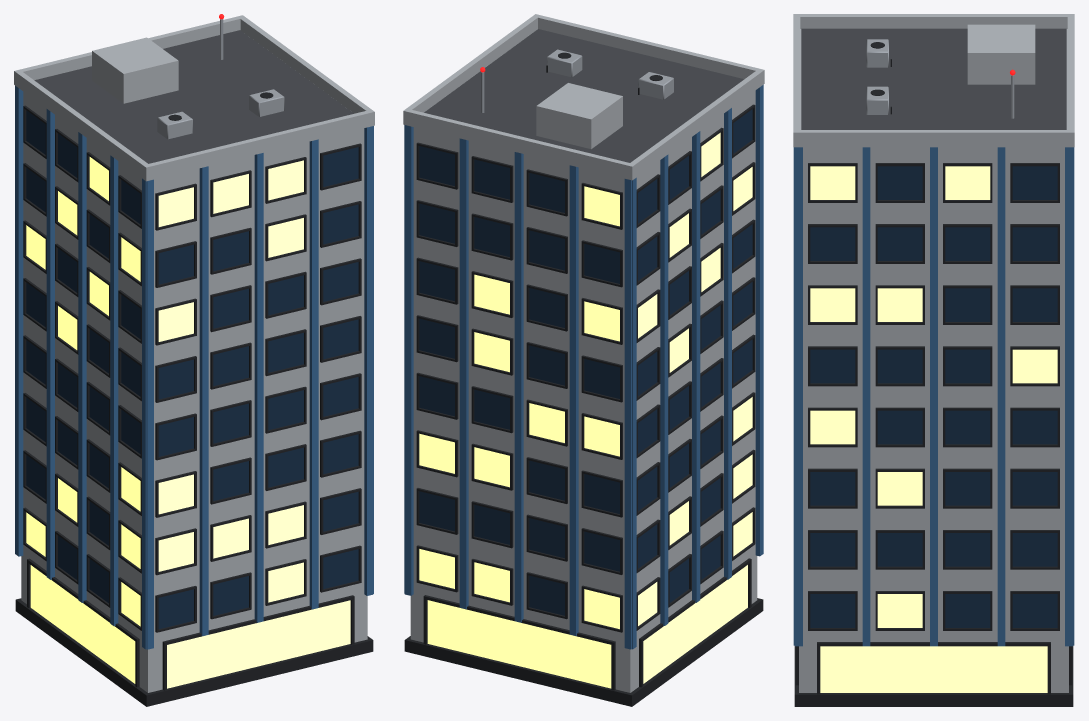
Rendered from building_c.glb.
The picture shows the model from 3 angles, left to right: view 1: azimuth 30°, elevation 25°; view 2: azimuth 150°, elevation 25°; view 3: azimuth 270°, elevation 25°; orthographic projection. The views are drawn at different scales.
Parts seen in each view (by area): view 1: Building_C_Mesh; view 2: Building_C_Mesh; view 3: Building_C_Mesh.
Boxes of the visible parts, x1,y1,x2,y2 form: Building_C_Mesh: (14, 14, 374, 706); Building_C_Mesh: (403, 14, 764, 706); Building_C_Mesh: (793, 14, 1074, 706).
Size of the model in its own units: 12.5 by 30 by 12.5.
